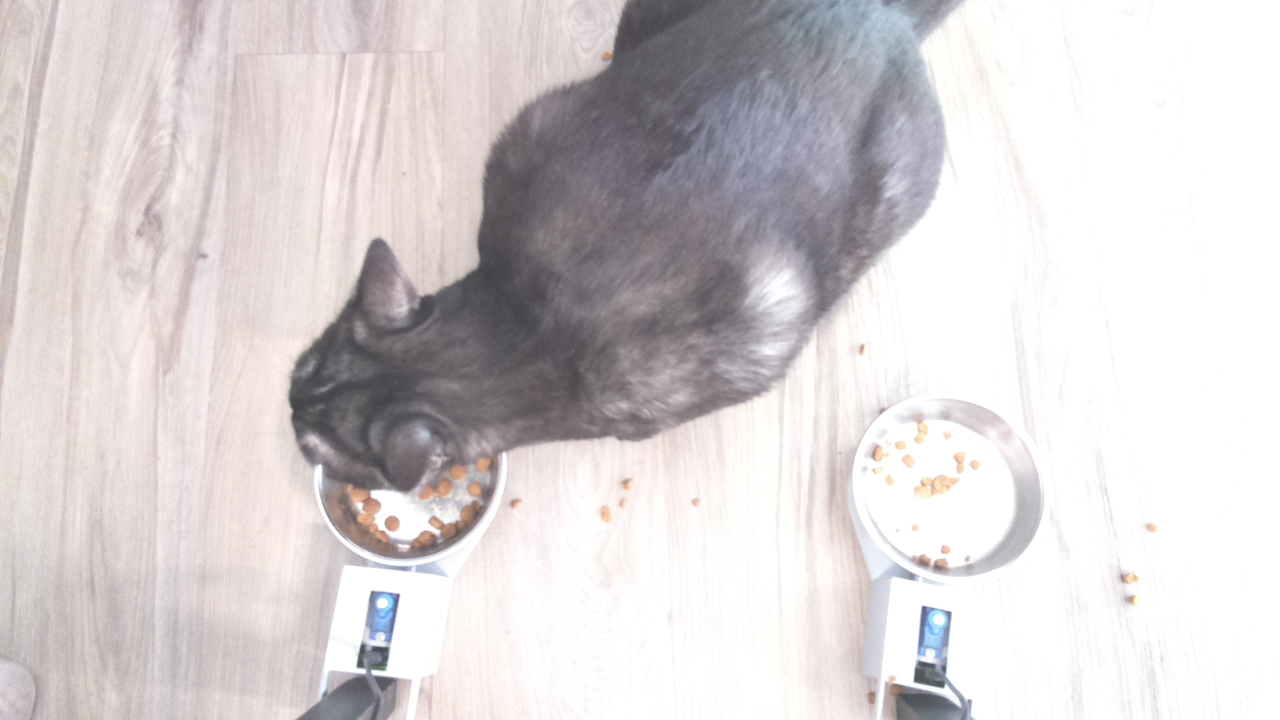open_bowl: (848, 391, 1052, 589)
saki_eating: (275, 219, 521, 580)
